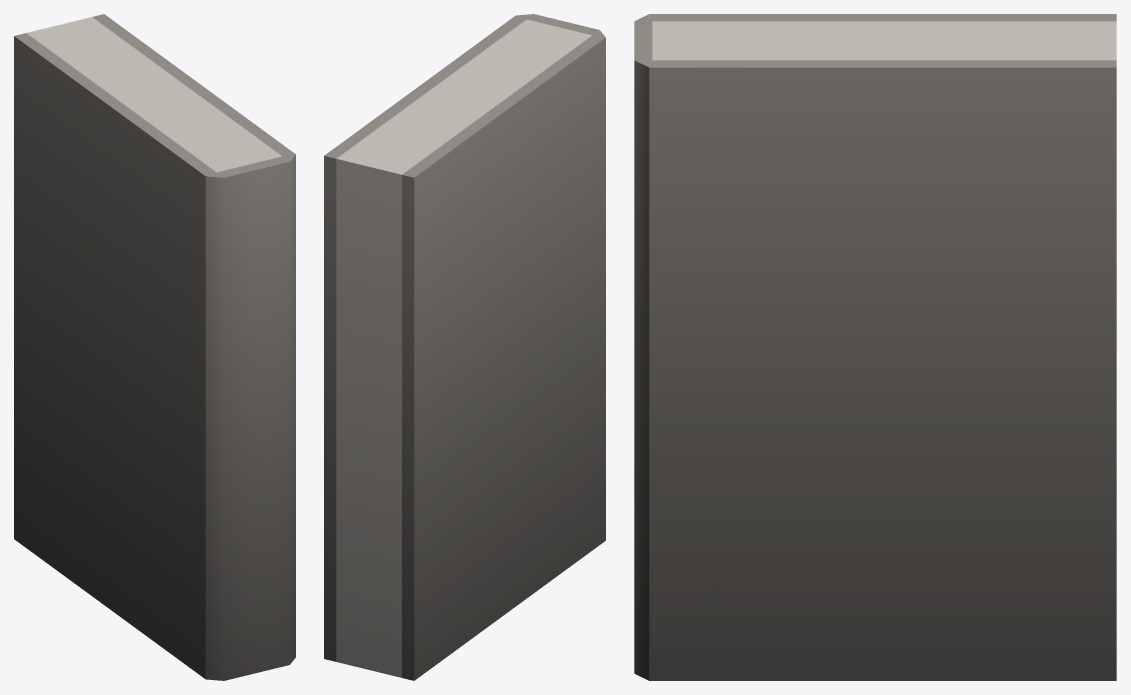
The model's file is Book_F.fbx.
3 views of the same model, side by side, from view 1: azimuth 30°, elevation 25°; view 2: azimuth 150°, elevation 25°; view 3: azimuth 270°, elevation 25° (orthographic). The views are drawn at different scales.
Parts seen in each view (by area): view 1: Book_F; view 2: Book_F; view 3: Book_F.
Boxes of the visible parts, x1=… form: Book_F: x1=14, y1=14, x2=295, y2=680; Book_F: x1=324, y1=14, x2=605, y2=680; Book_F: x1=634, y1=14, x2=1116, y2=680.
Bounding box in the file's own units: 5.57 × 29.68 × 21.15.
